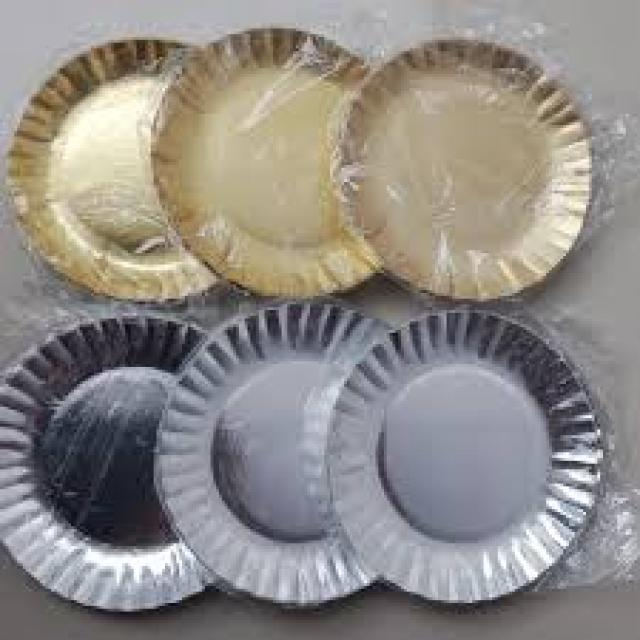Plate: (2, 309, 598, 610), (11, 30, 614, 306)
